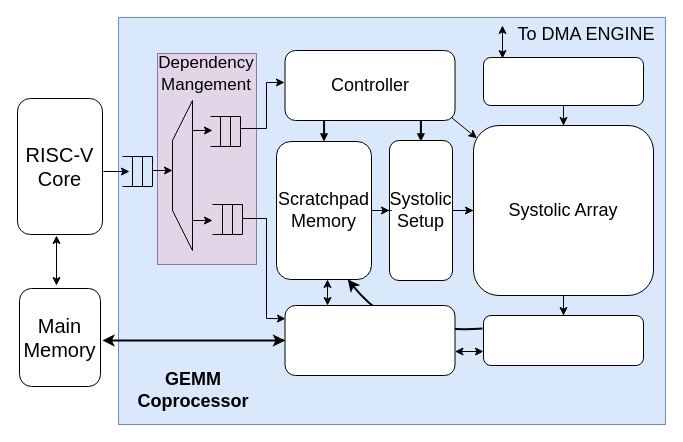
The diagram is 683 pixels wide and 442 high, and some of its shapes have lost their labels. Each missing label, with the box of its shape:
Accumulator: (482, 314, 644, 366)
DMA ENGINE: (284, 304, 455, 376)
Weight Buffer: (482, 56, 644, 106)
